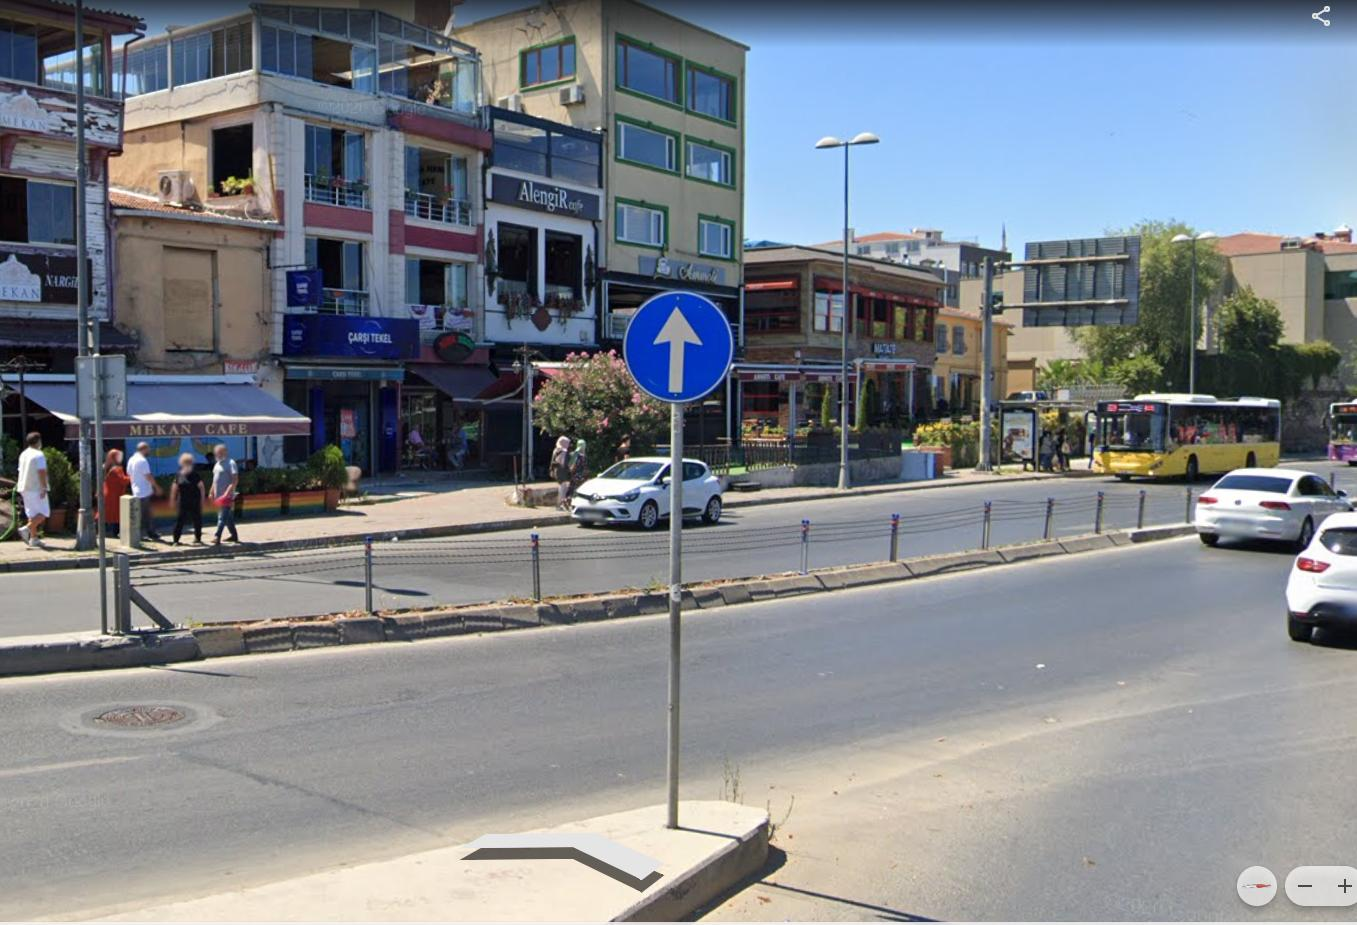forward: (629, 295, 728, 400)
